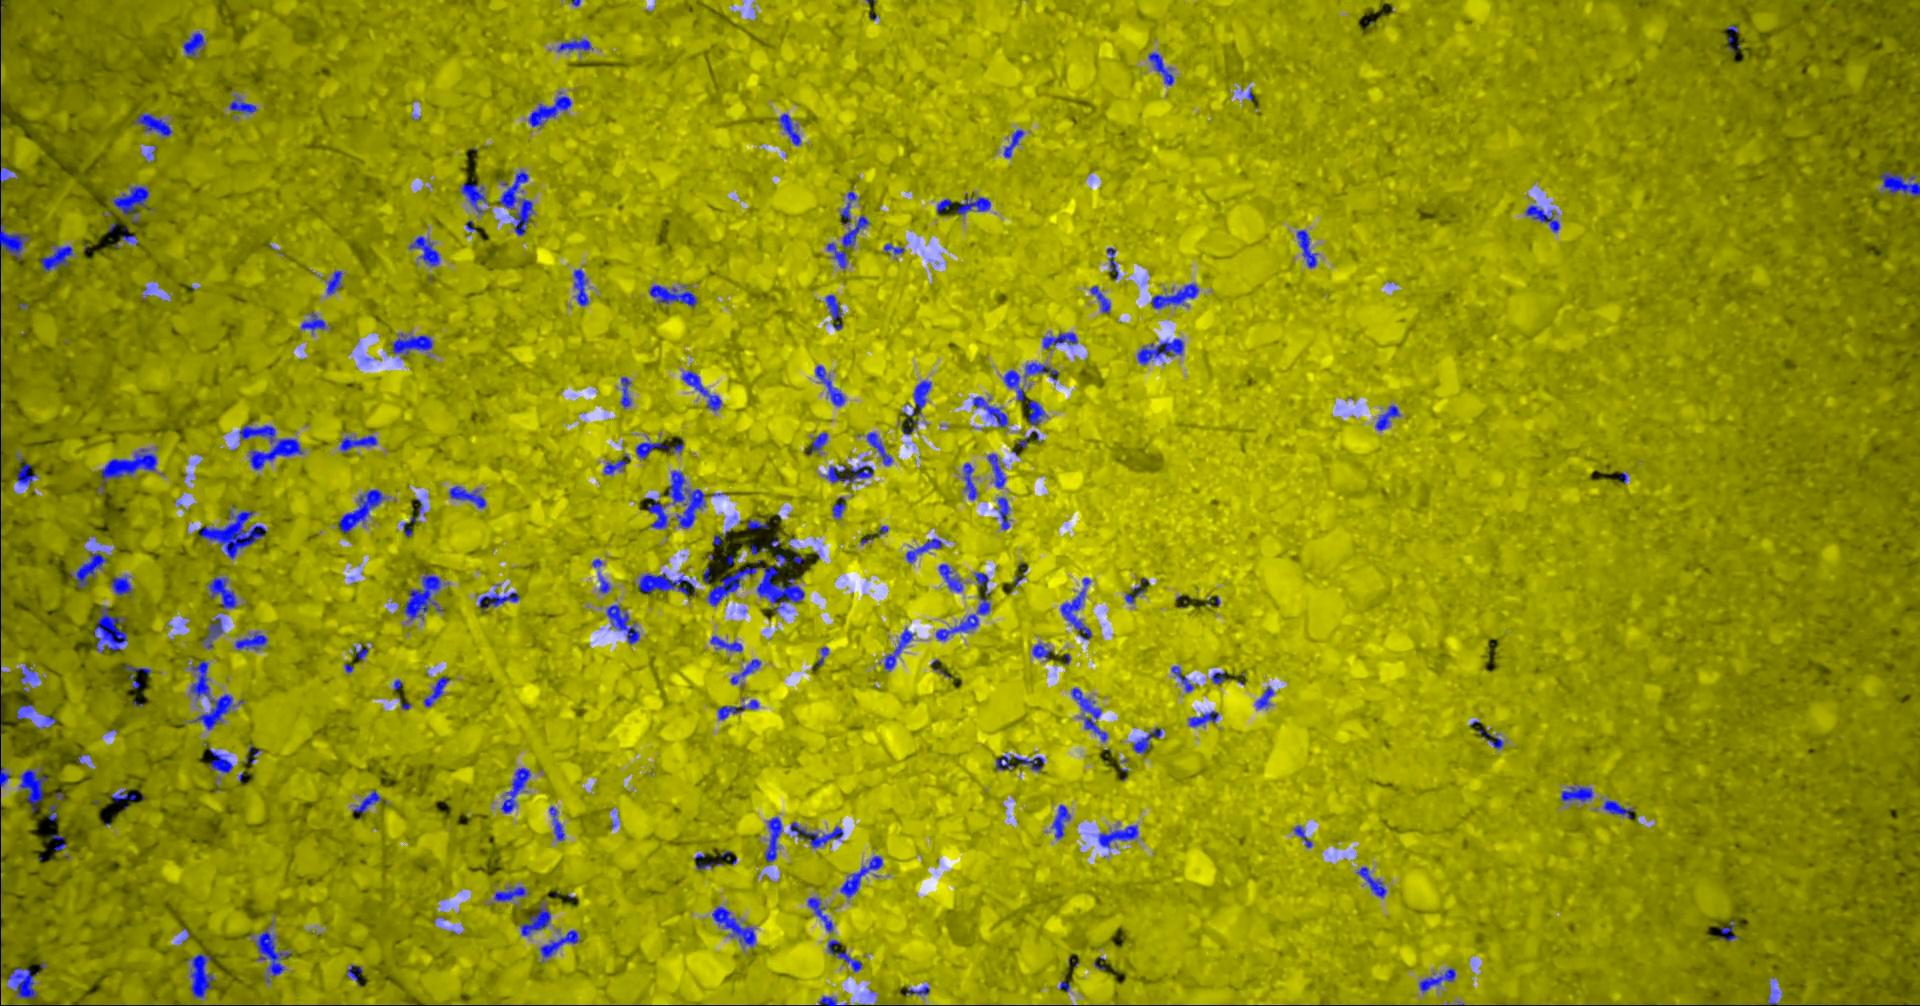ant: (935, 572, 989, 639), (189, 659, 234, 729), (756, 553, 804, 612), (237, 424, 302, 469), (707, 559, 762, 606), (825, 213, 869, 268), (667, 470, 705, 528), (498, 170, 532, 235), (100, 448, 156, 488), (1003, 362, 1058, 401), (338, 489, 383, 532), (1070, 687, 1107, 741), (1060, 577, 1091, 639), (711, 906, 756, 946), (841, 855, 883, 897), (403, 573, 439, 620), (681, 370, 721, 410), (93, 605, 127, 652), (257, 930, 291, 976), (528, 91, 571, 126), (789, 821, 843, 847), (69, 550, 107, 588), (637, 572, 695, 597), (500, 767, 530, 813), (538, 929, 578, 962), (884, 627, 914, 669), (606, 605, 639, 643), (1137, 338, 1183, 365), (185, 953, 213, 997), (815, 365, 844, 405), (19, 768, 47, 810), (0, 216, 27, 259), (1150, 283, 1197, 307), (110, 185, 149, 215), (827, 939, 861, 970), (971, 396, 1007, 427), (649, 285, 696, 306), (1879, 171, 1919, 197), (1525, 205, 1559, 232), (825, 464, 872, 484), (132, 112, 171, 136), (1355, 866, 1385, 897), (408, 236, 439, 265), (207, 577, 236, 608), (8, 967, 37, 998), (1418, 968, 1455, 992), (391, 333, 432, 354), (1098, 824, 1137, 847), (808, 897, 832, 932), (521, 906, 550, 935), (477, 592, 519, 612), (448, 485, 485, 508), (905, 539, 942, 561), (1148, 52, 1173, 85), (866, 432, 891, 465), (717, 699, 758, 719), (423, 676, 450, 706), (41, 245, 72, 271), (635, 442, 683, 459), (460, 183, 486, 212), (764, 815, 781, 861), (730, 658, 759, 683), (996, 754, 1044, 770), (777, 113, 800, 145), (1297, 229, 1316, 267), (644, 497, 667, 528), (1131, 728, 1161, 752), (938, 563, 963, 591), (123, 664, 151, 688), (352, 789, 380, 813), (201, 617, 222, 648), (912, 380, 931, 414), (1375, 404, 1399, 431), (234, 631, 267, 650), (208, 747, 232, 772), (956, 196, 990, 213), (987, 453, 1004, 488), (1051, 804, 1069, 838), (339, 434, 376, 451), (825, 293, 842, 329), (182, 32, 204, 57), (17, 453, 36, 484), (1603, 799, 1633, 818), (1003, 130, 1023, 158), (1090, 285, 1110, 312), (1043, 332, 1077, 348), (573, 268, 588, 305), (1171, 666, 1192, 691), (710, 635, 742, 652), (963, 462, 977, 499), (1027, 399, 1046, 426), (841, 191, 856, 224), (1559, 786, 1592, 801), (549, 807, 564, 840), (493, 887, 528, 901), (300, 312, 325, 332), (603, 455, 629, 474), (1189, 710, 1218, 727), (229, 97, 257, 113), (1478, 729, 1502, 748), (557, 38, 592, 51), (902, 406, 917, 434), (0, 158, 13, 191), (110, 789, 143, 801), (808, 432, 827, 453), (1124, 584, 1145, 603), (1293, 826, 1312, 847), (997, 497, 1010, 528), (110, 575, 131, 594), (1106, 246, 1117, 279), (1255, 687, 1272, 708), (1718, 920, 1736, 940), (326, 271, 342, 293), (1031, 643, 1051, 659), (620, 376, 630, 406), (815, 995, 846, 1005), (832, 495, 844, 517), (121, 227, 137, 244), (17, 702, 33, 719), (50, 833, 66, 850), (345, 964, 362, 981), (20, 666, 36, 683), (936, 198, 951, 215), (695, 861, 723, 870), (598, 572, 610, 593), (905, 984, 930, 995), (0, 763, 9, 788), (883, 243, 903, 253), (745, 520, 767, 528), (1211, 671, 1224, 683), (47, 803, 56, 821)
